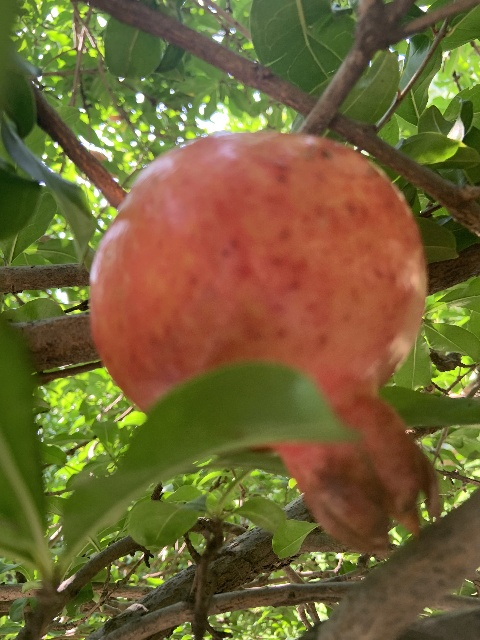ripe: (89, 132, 441, 557)
